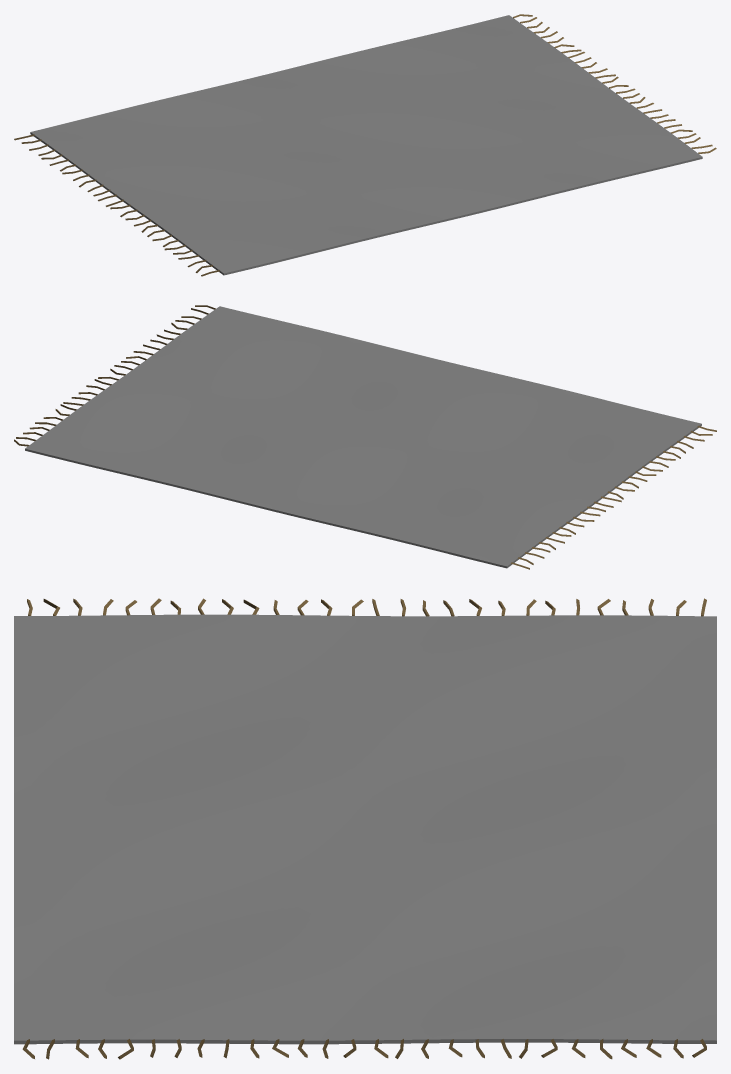
The model's file is teppich.glb.
3 renders of one model, top to bottom at view 1: azimuth 30°, elevation 25°; view 2: azimuth 150°, elevation 25°; view 3: azimuth 270°, elevation 25°, orthographic. The views are drawn at different scales.
Visible parts, largest first — view 1: teppich; view 2: teppich; view 3: teppich.
Part boxes in pixels (x1=…): teppich: x1=14, y1=14, x2=716, y2=276; teppich: x1=14, y1=305, x2=716, y2=569; teppich: x1=14, y1=598, x2=716, y2=1059.
Bounding box in the file's own units: 2.16 × 0.0144 × 1.4.
